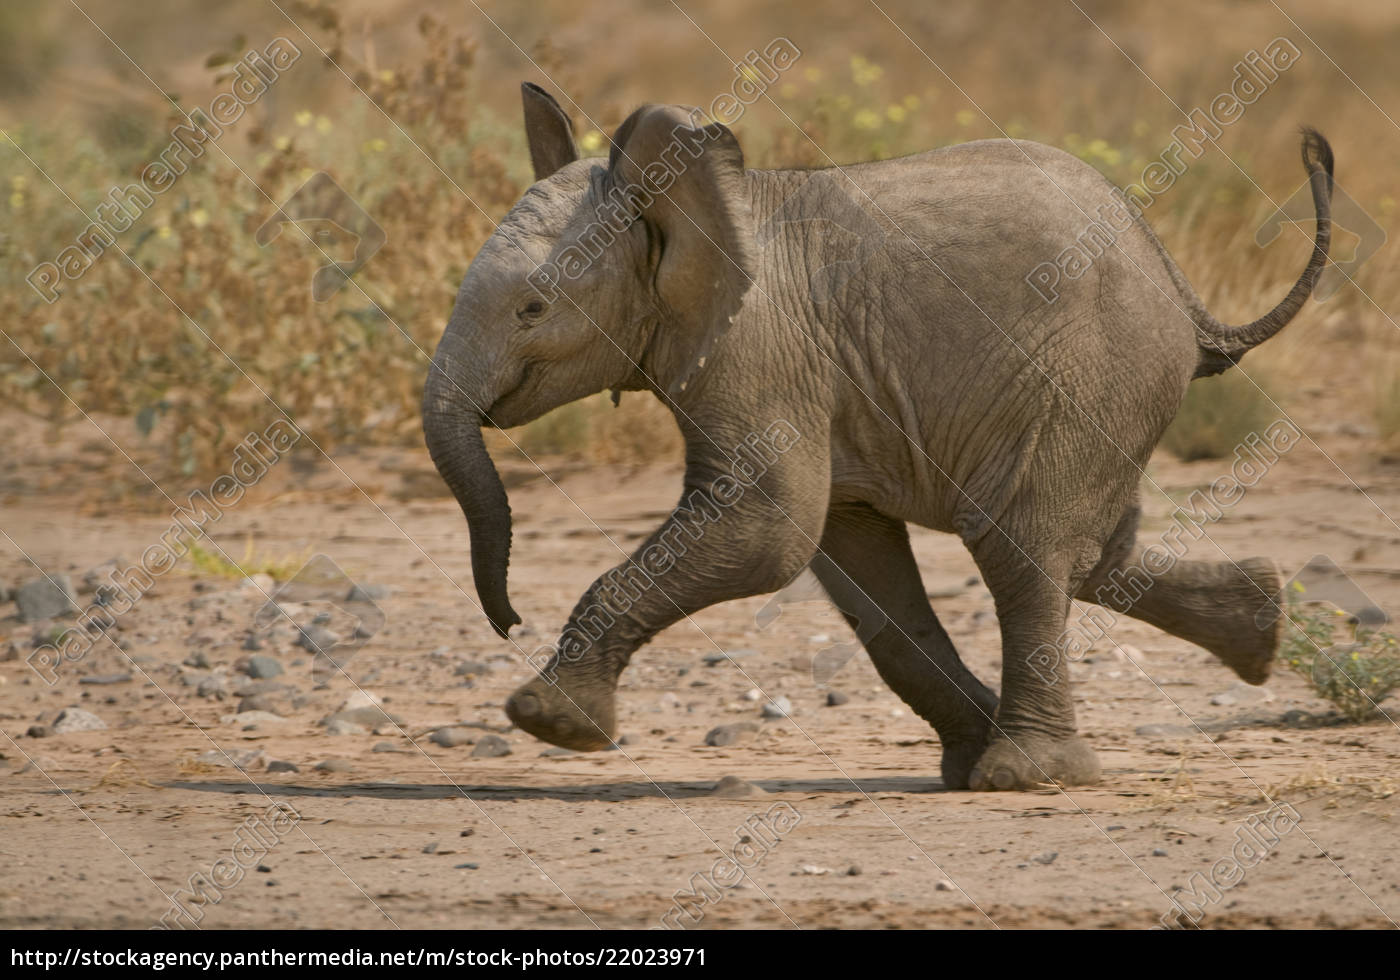elephant: (415, 72, 1297, 787)
